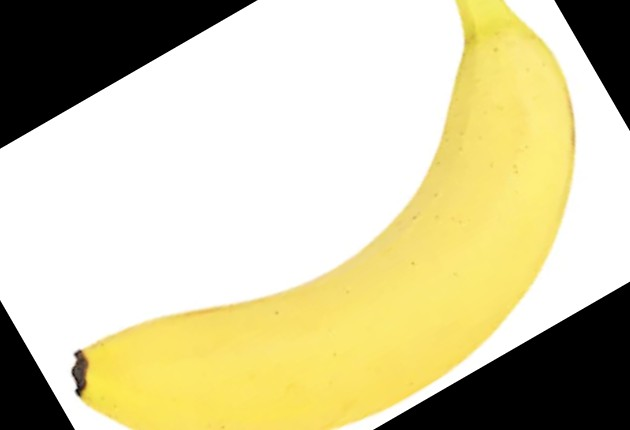fresh_banana: (71, 1, 576, 430)
